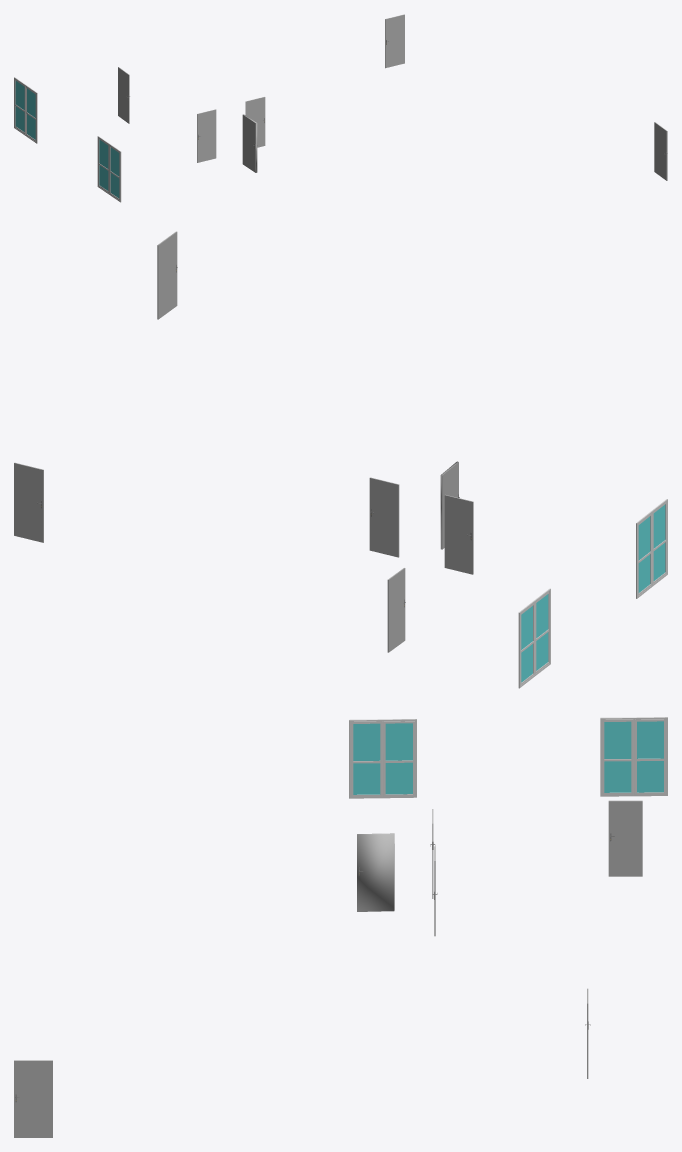
The model's file is rb2_Door.fbx.
3 renders of one model, top to bottom at view 1: azimuth 30°, elevation 25°; view 2: azimuth 150°, elevation 25°; view 3: azimuth 270°, elevation 25°, orthographic. The views are drawn at different scales.
Parts seen in each view (by area): view 1: stena039.546, stena039.552, stena039.575, stena039.508, stena039.560, stena039.203, stena039.166, stena039.202, stena039.169, stena039.566; view 2: stena039.560, stena039.546, stena039.552, stena039.508, stena039.566, stena039.169, stena039.203, stena039.166, stena039.202, stena039.575; view 3: stena039.508, stena039.575, stena039.166, stena039.202, stena039.169, stena039.566, stena039.203.
Boxes of the visible parts, x1=… form: stena039.546: x1=385, y1=14, x2=404, y2=68; stena039.552: x1=197, y1=109, x2=216, y2=162; stena039.575: x1=242, y1=114, x2=257, y2=172; stena039.508: x1=654, y1=122, x2=667, y2=180; stena039.560: x1=245, y1=97, x2=265, y2=147; stena039.203: x1=97, y1=136, x2=109, y2=194; stena039.166: x1=25, y1=85, x2=37, y2=143; stena039.202: x1=109, y1=144, x2=121, y2=202; stena039.169: x1=14, y1=77, x2=25, y2=135; stena039.566: x1=118, y1=67, x2=129, y2=123; stena039.560: x1=369, y1=477, x2=399, y2=557; stena039.546: x1=14, y1=462, x2=43, y2=542; stena039.552: x1=444, y1=494, x2=473, y2=574; stena039.508: x1=157, y1=231, x2=177, y2=319; stena039.566: x1=387, y1=568, x2=405, y2=652; stena039.169: x1=518, y1=600, x2=534, y2=688; stena039.203: x1=636, y1=511, x2=652, y2=598; stena039.166: x1=534, y1=588, x2=550, y2=675; stena039.202: x1=652, y1=499, x2=667, y2=586; stena039.575: x1=440, y1=461, x2=459, y2=549; stena039.508: x1=14, y1=1060, x2=52, y2=1137; stena039.575: x1=357, y1=833, x2=394, y2=911; stena039.166: x1=600, y1=717, x2=633, y2=796; stena039.202: x1=349, y1=719, x2=382, y2=798; stena039.169: x1=634, y1=717, x2=667, y2=796; stena039.566: x1=608, y1=800, x2=642, y2=876; stena039.203: x1=383, y1=719, x2=416, y2=798.
Size of the model in its own units: 1869 by 228 by 1546.
